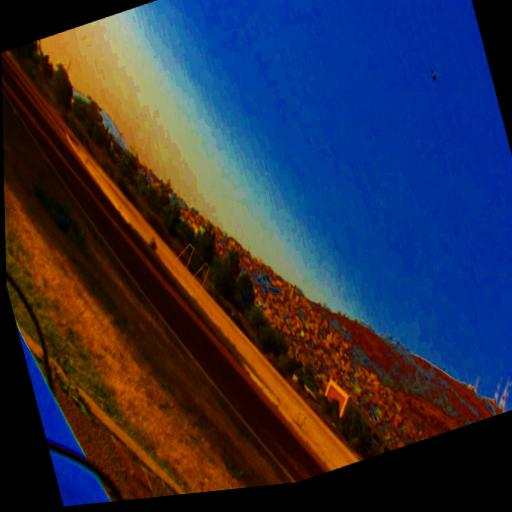drones: (428, 62, 442, 88)
